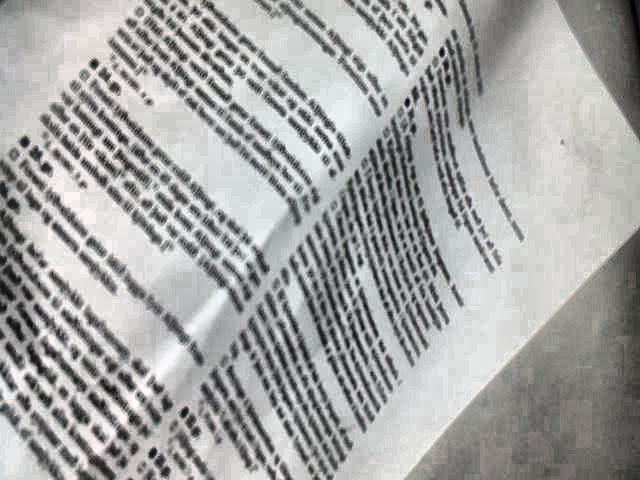Paper: (2, 0, 640, 476)
